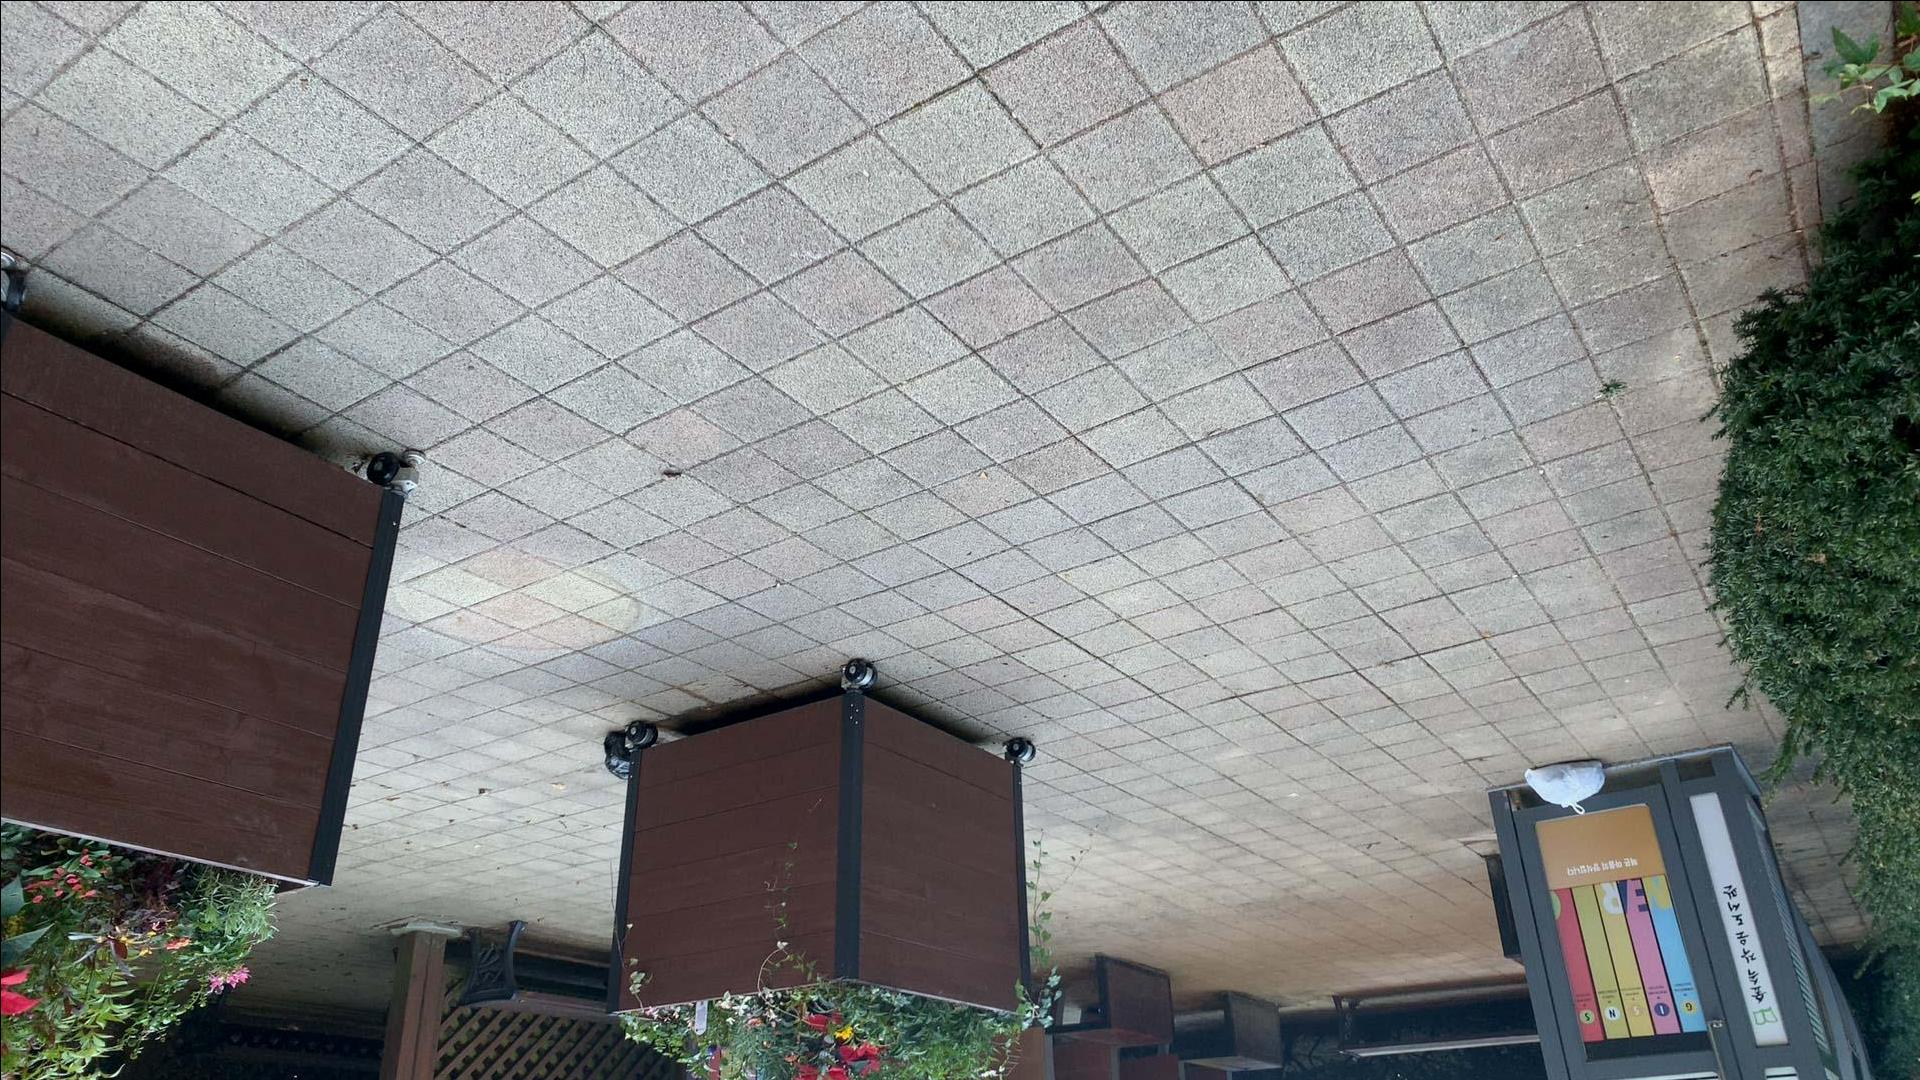white_bag: (1519, 757, 1614, 819)
